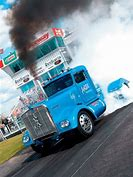smoke: (2, 1, 86, 79)
